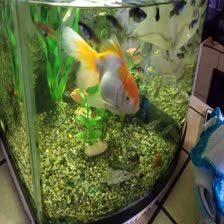Cuezo: (58, 23, 141, 114)
